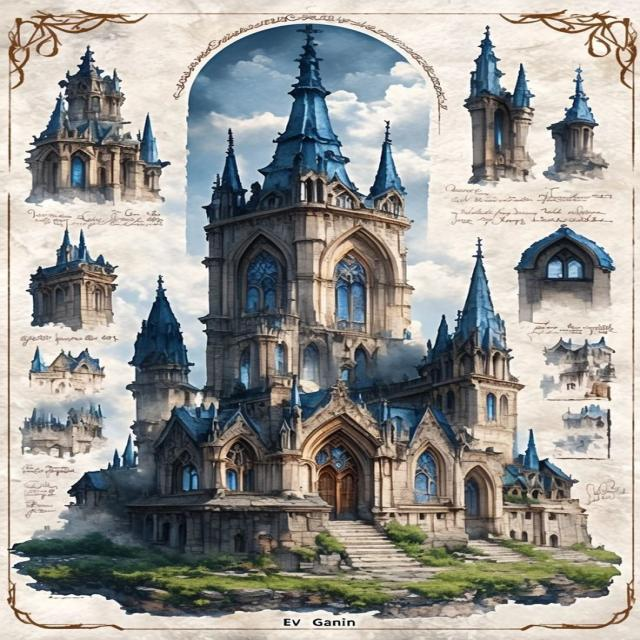castle: (110, 55, 522, 526)
